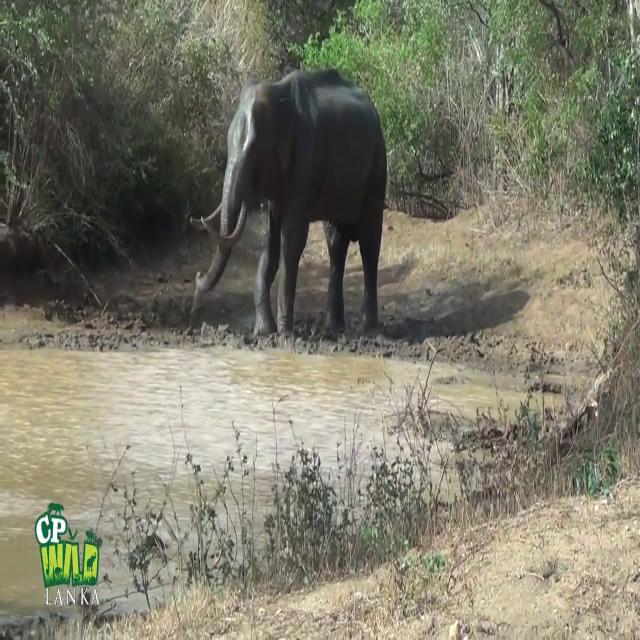Elephant: (190, 65, 388, 338)
